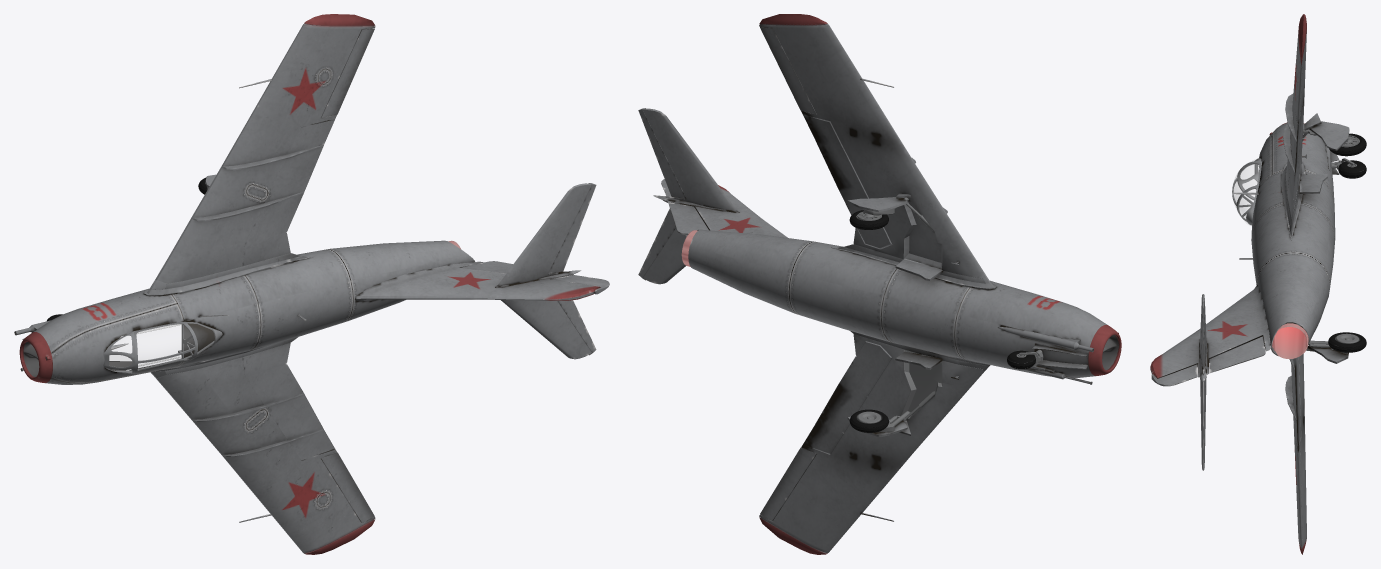
Rendered from MiG-15bis.gltf.
3 views of the same model, side by side, from view 1: azimuth 30°, elevation 25°; view 2: azimuth 150°, elevation 25°; view 3: azimuth 270°, elevation 25° (orthographic). The views are drawn at different scales.
Visible parts, largest first — view 1: Fuselage, CP_RCGlass, WNG_AileronR, WNG_AileronL, TP_ElevatorR, TF_Rudder; view 2: Fuselage, WNG_AileronL, WNG_AileronR, TF_Rudder, TP_ElevatorR, GL_Wheel, TP_ElevatorL, GR_DoorO; view 3: Fuselage, TF_Rudder, FUS_JPOne, CP_RCGlass, GR_DoorO, GL_Wheel, GR_Wheel, GR_DoorI, GF_Wheel, GL_DoorO, WNG_AileronL, CP_RCFrame_0 (+2 smaller).
Boxes of the visible parts, x1,y1,x2,y2 form: Fuselage: (14, 14, 600, 554); CP_RCGlass: (136, 322, 215, 373); WNG_AileronR: (321, 28, 374, 117); WNG_AileronL: (321, 452, 374, 523); TP_ElevatorR: (548, 183, 596, 273); TF_Rudder: (461, 261, 609, 294); Fuselage: (643, 14, 1121, 554); WNG_AileronL: (760, 447, 816, 521); WNG_AileronR: (760, 27, 816, 114); TF_Rudder: (661, 179, 708, 234); TP_ElevatorR: (638, 108, 686, 199); GL_Wheel: (849, 409, 888, 432); TP_ElevatorL: (638, 208, 675, 280); GR_DoorO: (847, 193, 910, 211); Fuselage: (1150, 14, 1335, 554); TF_Rudder: (1151, 336, 1265, 386); FUS_JPOne: (1272, 323, 1308, 359); CP_RCGlass: (1232, 163, 1258, 225); GR_DoorO: (1304, 113, 1349, 151); GL_Wheel: (1328, 332, 1366, 352); GR_Wheel: (1329, 133, 1366, 156); GR_DoorI: (1299, 174, 1327, 193); GF_Wheel: (1338, 160, 1366, 178); GL_DoorO: (1306, 346, 1348, 363); WNG_AileronL: (1296, 447, 1302, 545); CP_RCFrame_0: (1232, 163, 1259, 221).
Bounding box in the file's own units: 10.14 × 10.03 × 3.73.
4 materials, 1 textured.
